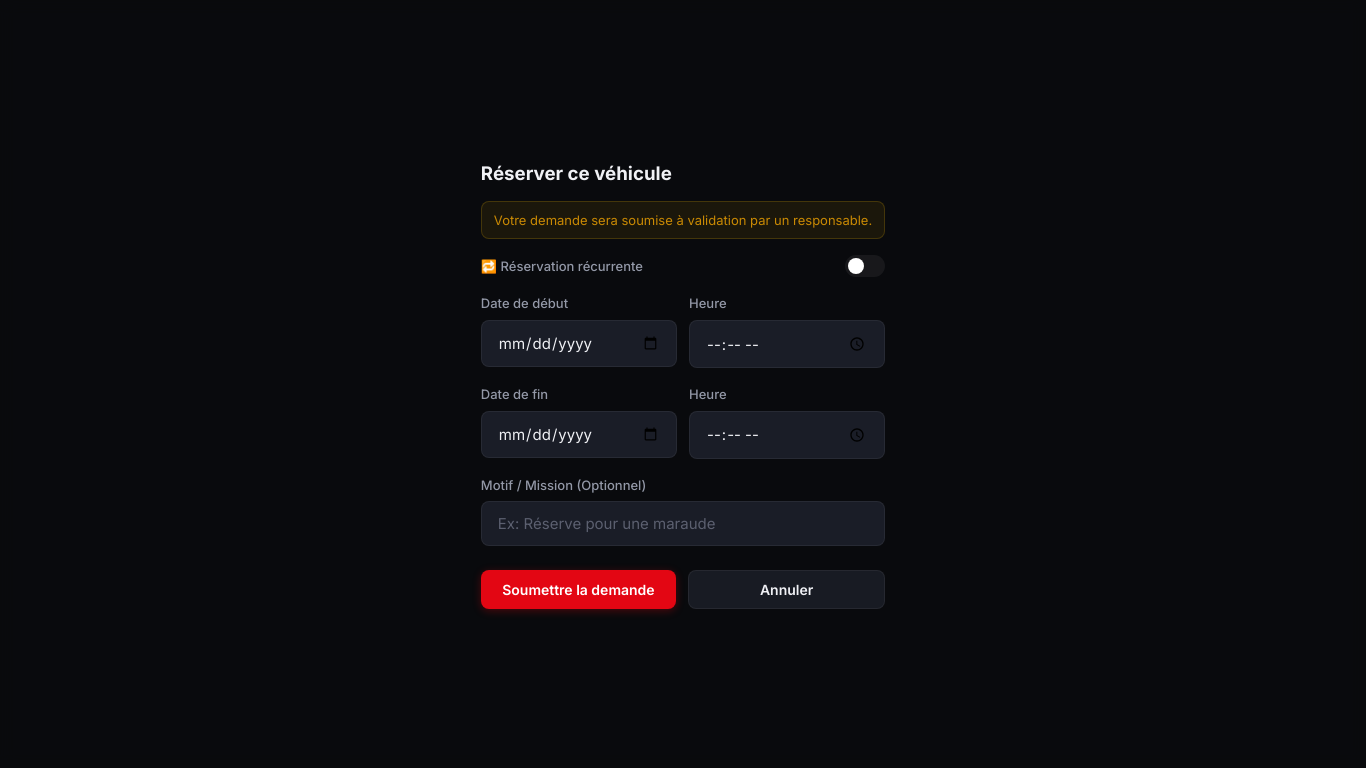
Test case: ReservationFormModal — récurrence › toggle : le panneau de récurrence remplace les champs de dates simples
What coordinates should you click on to do the following:
click the switch named "Réservation récurrente"
I would click on:
 (865, 266)
Its box is [845,255,885,277].
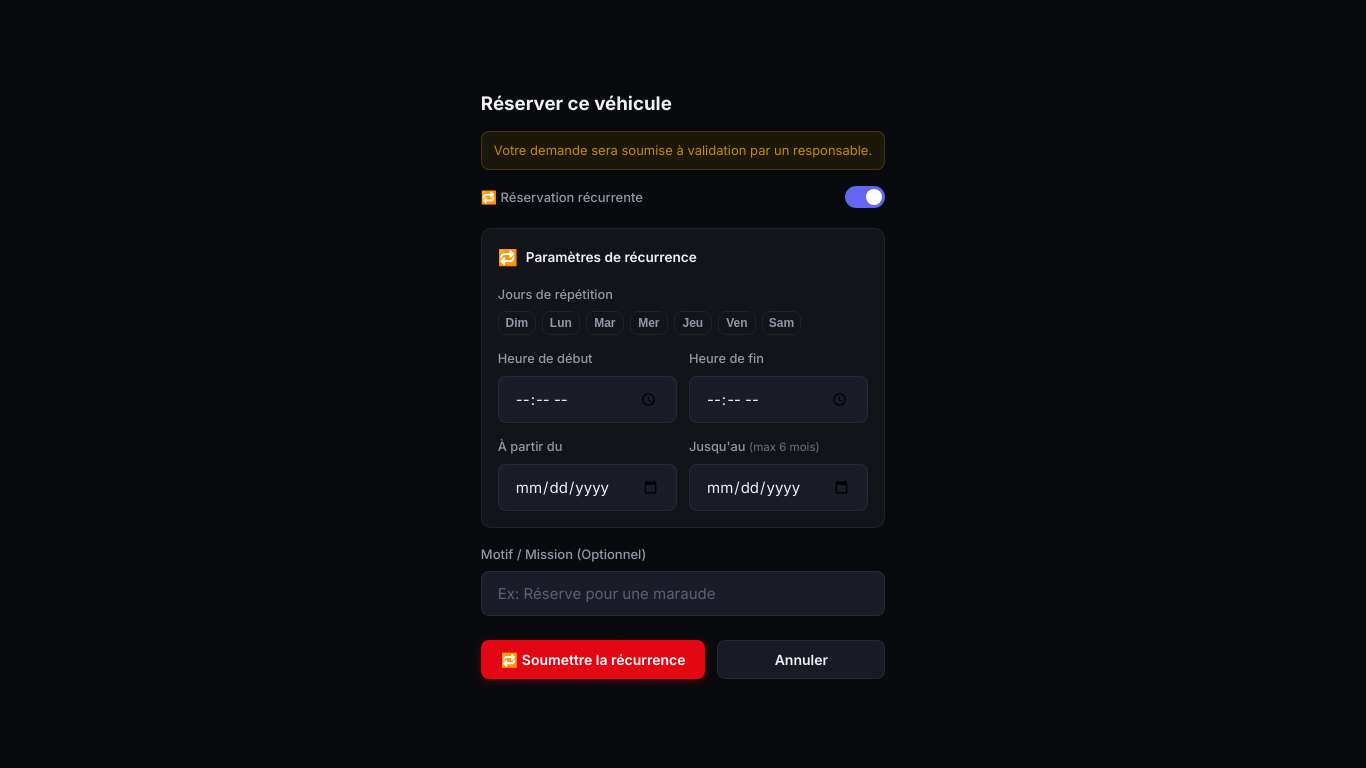
Result: the text "Paramètres de récurrence" is shown at [526,247,697,269]
Result: the text "Date de début" is gone
Result: the button "🔁 Soumettre la récurrence" is shown at [481,640,705,679]
